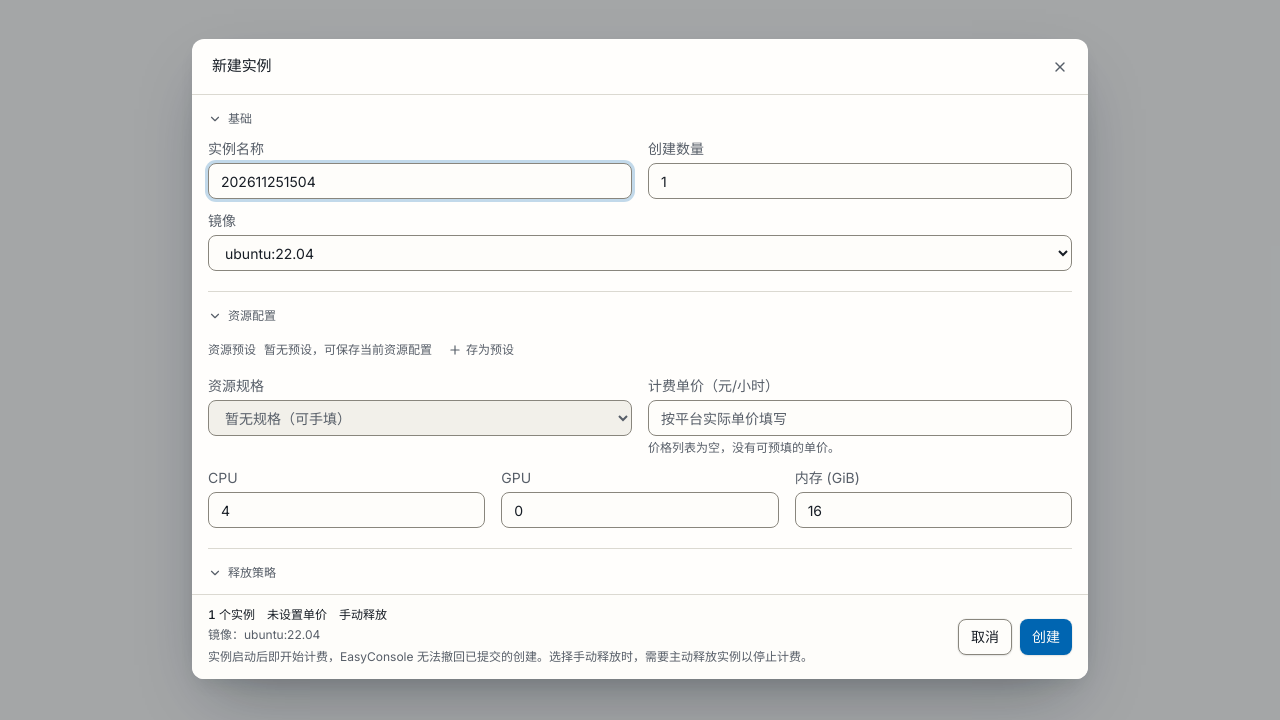
Scenario: CreateTaskDialog › reports a create that may have landed as unknown, not failed
Expected: the dropdown labelled "镜像" shows "ubuntu:22.04", [208, 235, 1072, 271]
In the number field labelled "计费单价（元/小时）": (860, 418) [648, 400, 1072, 436], type "1"
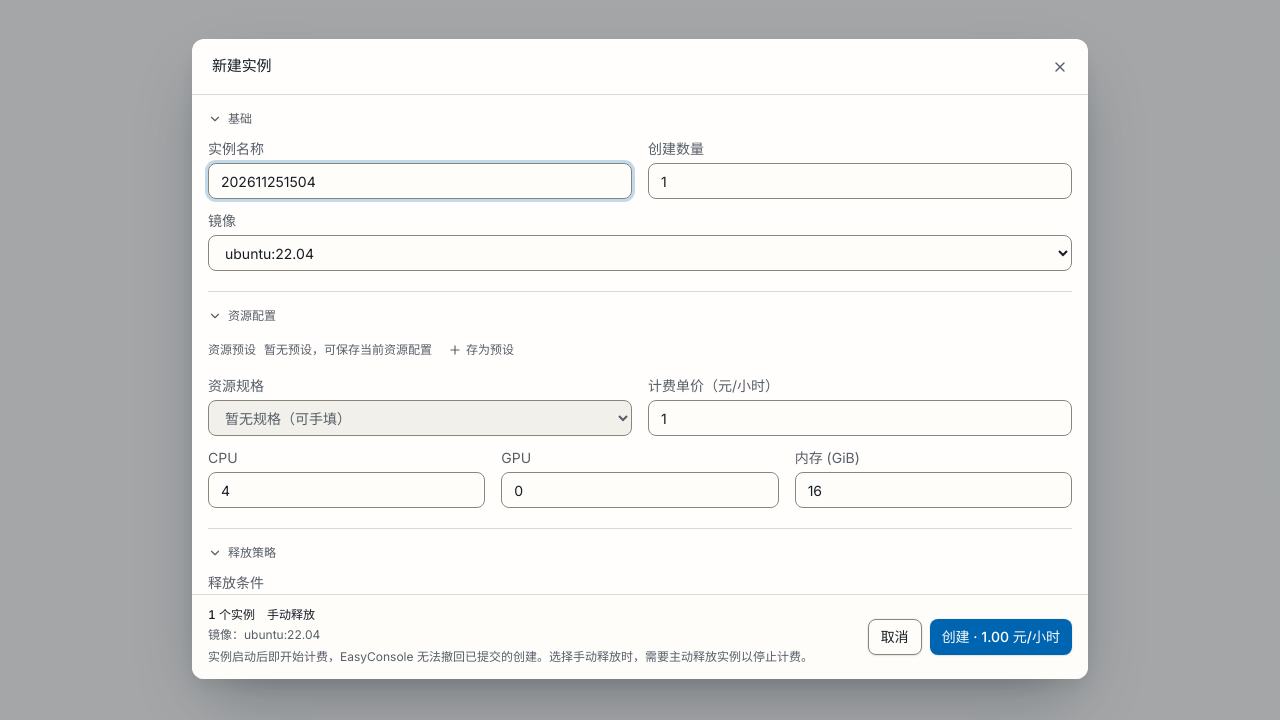
Submit the form, box [192, 95, 1088, 679]
(page scrolled)
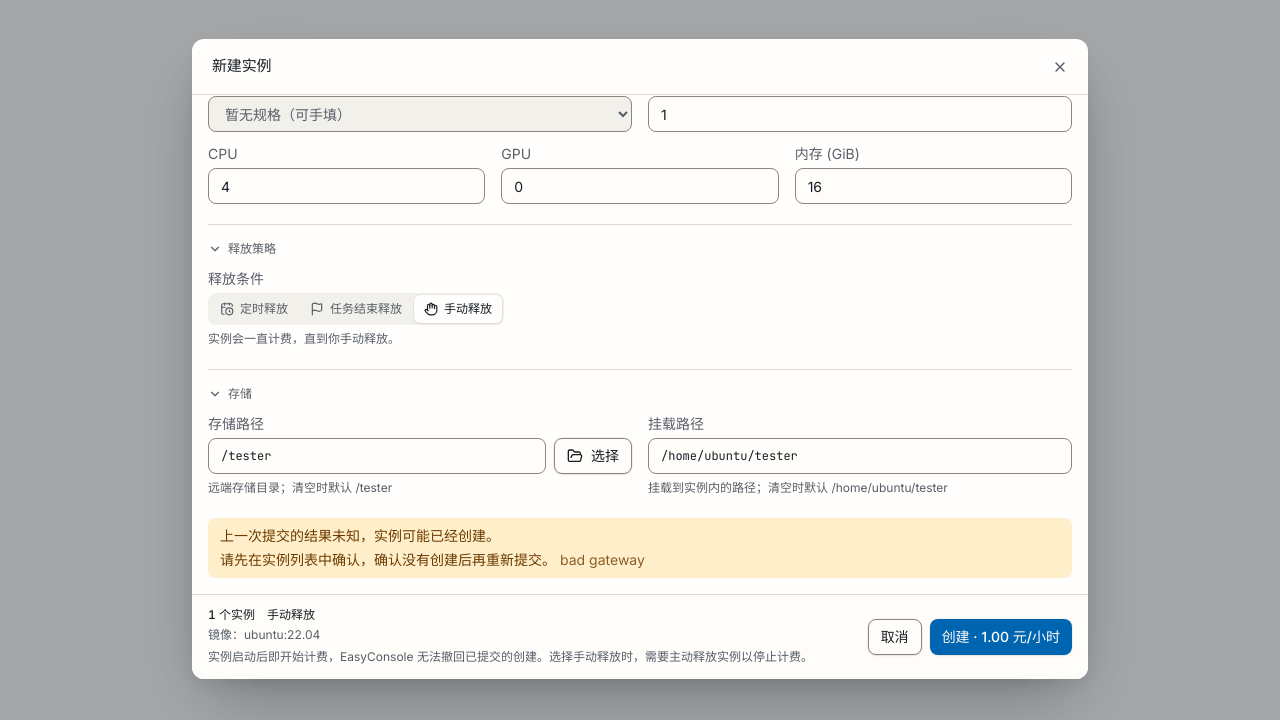
Expected: the text "上一次提交的结果未知，实例可能已经创建。" is shown, [220, 527, 500, 544]
